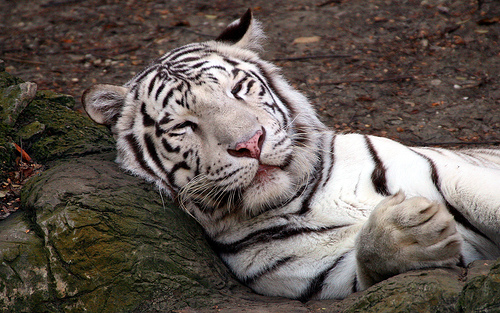Tigre: (73, 36, 480, 288)
